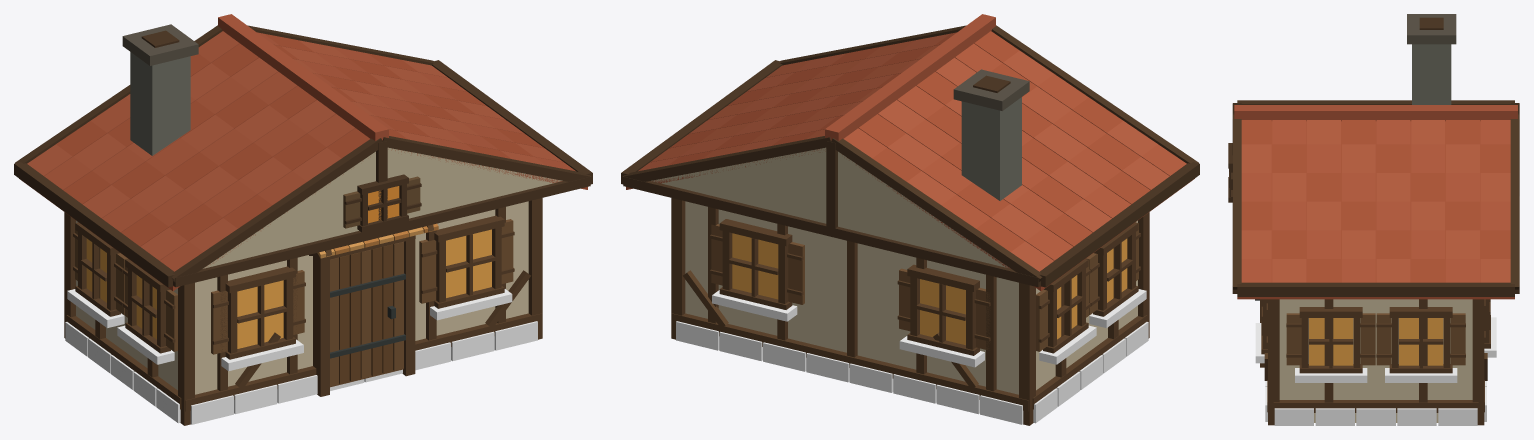
The model's file is house_a.glb.
3 views of the same model, side by side, from view 1: azimuth 30°, elevation 25°; view 2: azimuth 150°, elevation 25°; view 3: azimuth 270°, elevation 25° (orthographic). The views are drawn at different scales.
Parts seen in each view (by area): view 1: house_a; view 2: house_a; view 3: house_a.
Part boxes in pixels (box(x1,y1,x2,y2)): house_a: box(14, 14, 592, 425); house_a: box(621, 14, 1199, 425); house_a: box(1228, 14, 1519, 425).
Bounding box in the file's own units: 7.16 × 4.91 × 4.72.
